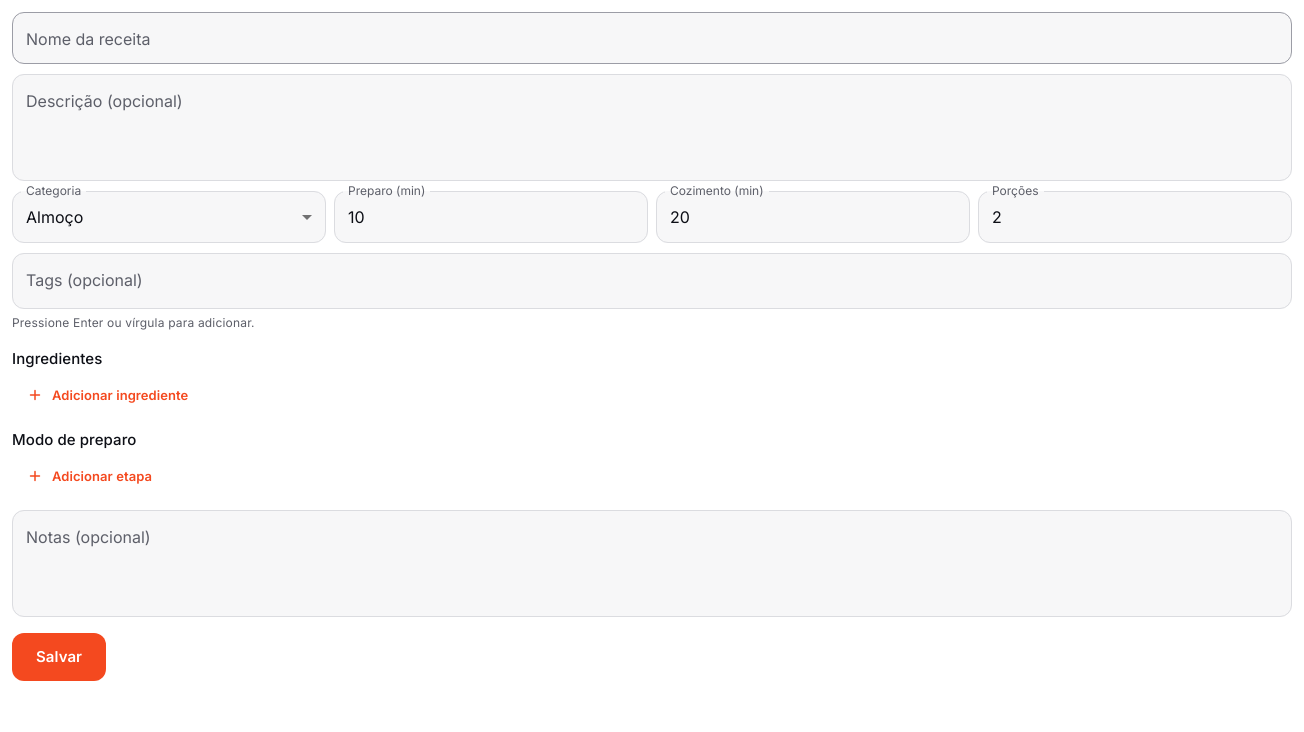
Test: RecipeForm tags › suggests tags already used in other recipes
Click the dropdown labelled "Tags (opcional)".
click(652, 281)  # box [21,262,1283,300]
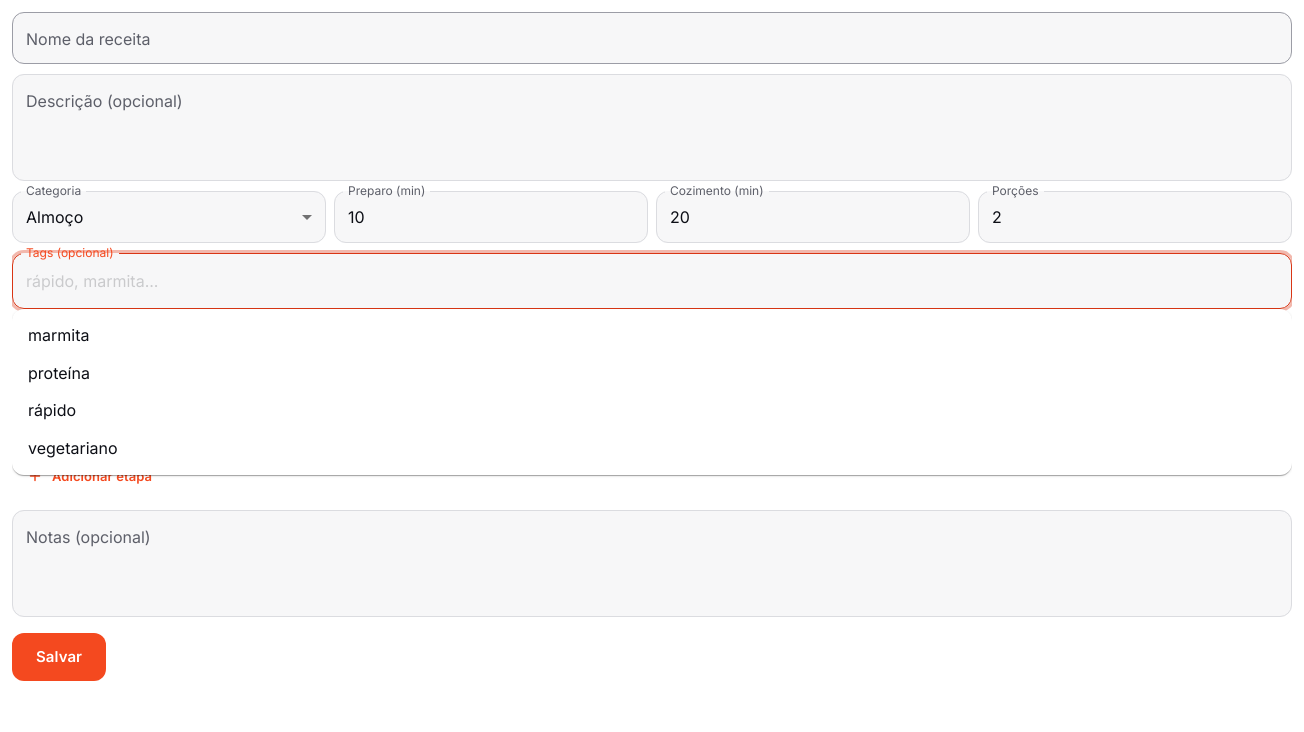
Check: the option "vegetariano" is shown, box [28,438,118,458]
